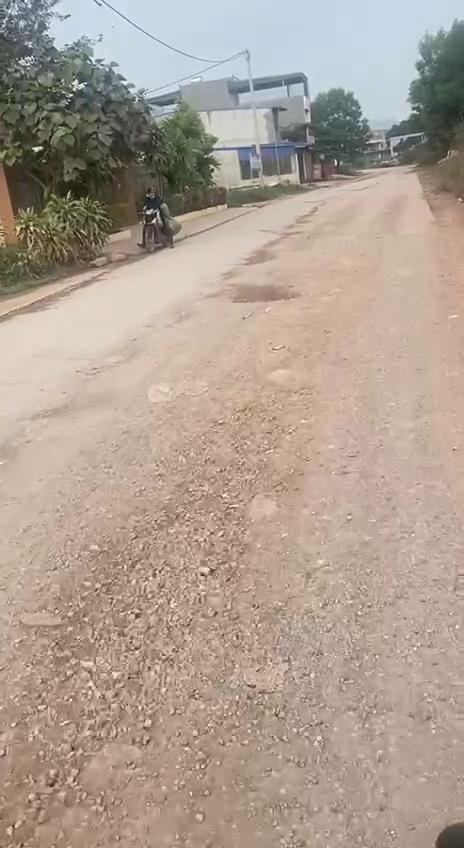pothole: (226, 280, 304, 306)
